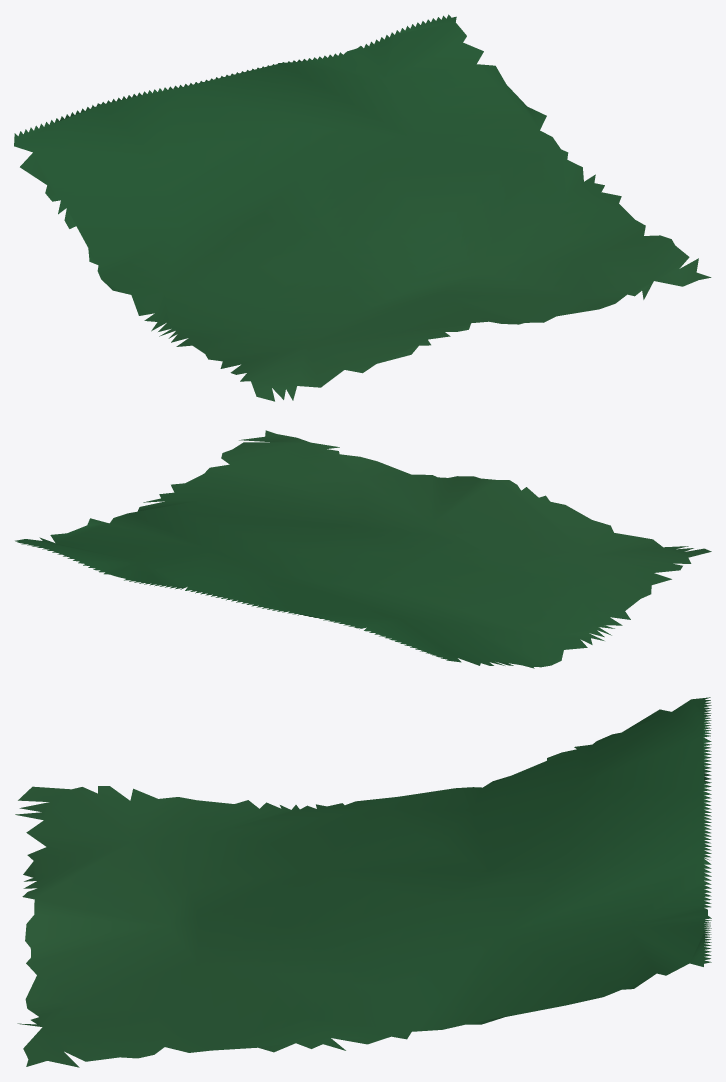
File: payo_land_x2_y5_lod2.glb
3 views of the same model, one above another, from view 1: azimuth 30°, elevation 25°; view 2: azimuth 150°, elevation 25°; view 3: azimuth 270°, elevation 25° (orthographic). The views are drawn at different scales.
Parts seen in each view (by area): view 1: payo_land_x2_y5; view 2: payo_land_x2_y5; view 3: payo_land_x2_y5.
Part boxes in pixels (left/top/right/bottom): payo_land_x2_y5: left=14, top=14, right=711, bottom=401; payo_land_x2_y5: left=15, top=430, right=711, bottom=668; payo_land_x2_y5: left=15, top=697, right=711, bottom=1067.
Size of the model in its own units: 268 by 55.31 by 264.
